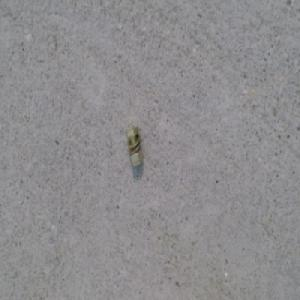BoltNutSet: (126, 128, 144, 170)
